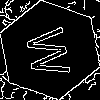W: (25, 25, 80, 79)
